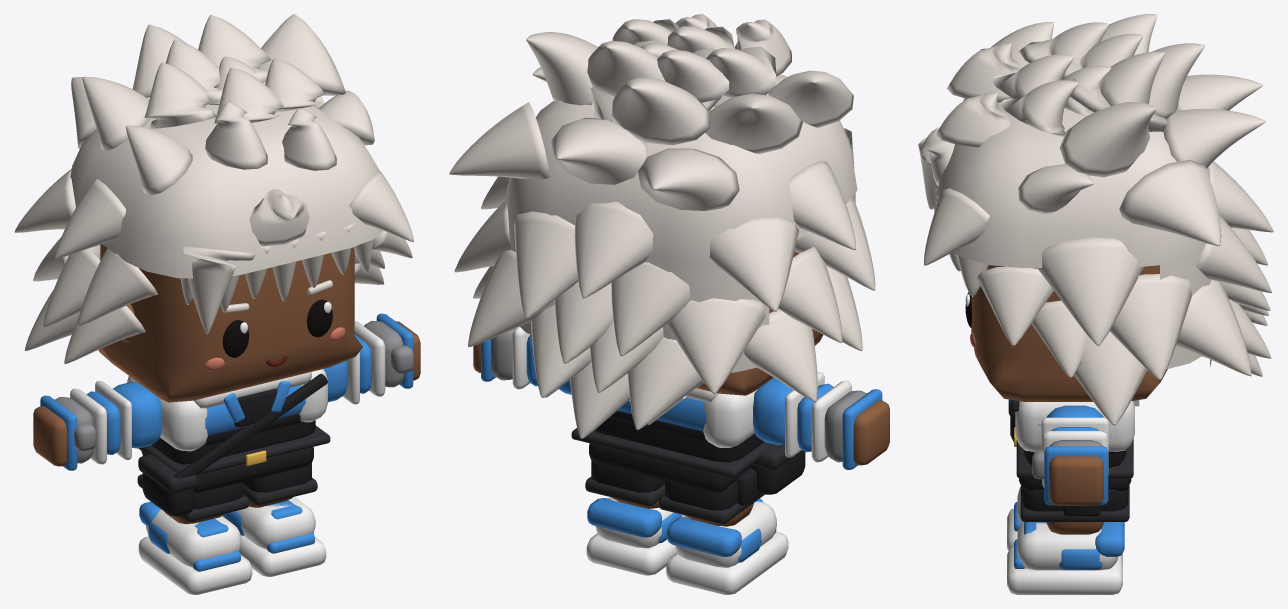
File: sol_chibi_v02.glb
3 views of the same model, side by side, from view 1: azimuth 30°, elevation 25°; view 2: azimuth 150°, elevation 25°; view 3: azimuth 270°, elevation 25° (orthographic). The views are drawn at different scales.
Visible parts, largest first — view 1: Hair_Tufts, Hair_Cap, Head, Shoe_R, Shorts, Shoe_L, Arm_R, Jacket, Hand_R, Arm_L, Hair_Bangs, Hand_L (+7 smaller); view 2: Hair_Tufts, Hair_Cap, Shorts, Shoe_R, Shoe_L, Arm_R, Hand_R, Jacket, Torso, Belt, Bag, Hand_L (+3 smaller); view 3: Hair_Tufts, Hair_Cap, Shoe_L, Head, Hand_L, Shorts, Jacket, Arm_L, Belt, Hair_Bangs, Leg_L, Shoe_R.
Boxes of the visible parts, <box> form: Hair_Tufts: <box>14,14,413,364</box>; Hair_Cap: <box>64,104,383,278</box>; Head: <box>98,244,362,402</box>; Shoe_R: <box>138,501,252,594</box>; Shorts: <box>137,447,317,521</box>; Shoe_L: <box>222,496,326,576</box>; Arm_R: <box>70,381,161,464</box>; Jacket: <box>127,369,327,451</box>; Hand_R: <box>33,395,95,470</box>; Arm_L: <box>324,321,385,404</box>; Hair_Bangs: <box>180,222,373,311</box>; Hand_L: <box>364,313,420,388</box>; Hair_Tufts: <box>449,14,875,438</box>; Hair_Cap: <box>507,74,857,372</box>; Shorts: <box>585,443,764,523</box>; Shoe_R: <box>666,498,788,594</box>; Shoe_L: <box>586,497,687,575</box>; Arm_R: <box>753,372,851,462</box>; Hand_R: <box>824,389,889,469</box>; Jacket: <box>617,389,757,447</box>; Torso: <box>594,418,764,462</box>; Belt: <box>571,428,773,477</box>; Bag: <box>750,444,805,494</box>; Hand_L: <box>473,328,514,381</box>; Hair_Tufts: <box>918,14,1273,425</box>; Hair_Cap: <box>934,98,1211,369</box>; Shoe_L: <box>1007,521,1124,594</box>; Head: <box>971,265,1167,401</box>; Hand_L: <box>1032,440,1108,505</box>; Shorts: <box>1019,478,1131,521</box>; Jacket: <box>1015,400,1139,451</box>; Arm_L: <box>1041,405,1108,487</box>; Belt: <box>1014,427,1133,478</box>; Hair_Bangs: <box>934,181,988,296</box>; Leg_L: <box>1046,522,1103,534</box>; Shoe_R: <box>1007,487,1022,550</box>.
Bounding box in the file's own units: 0.5873 × 0.7736 × 0.4755.
